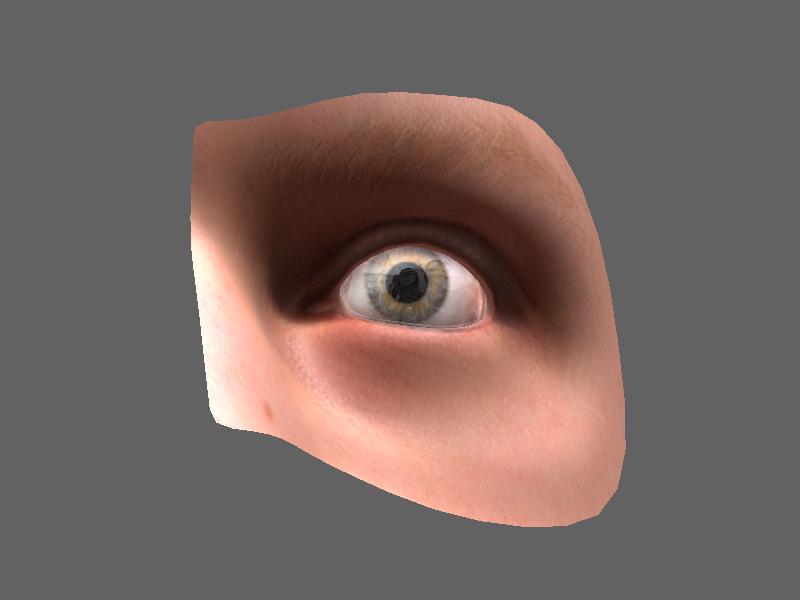iris: (362, 246, 449, 322)
